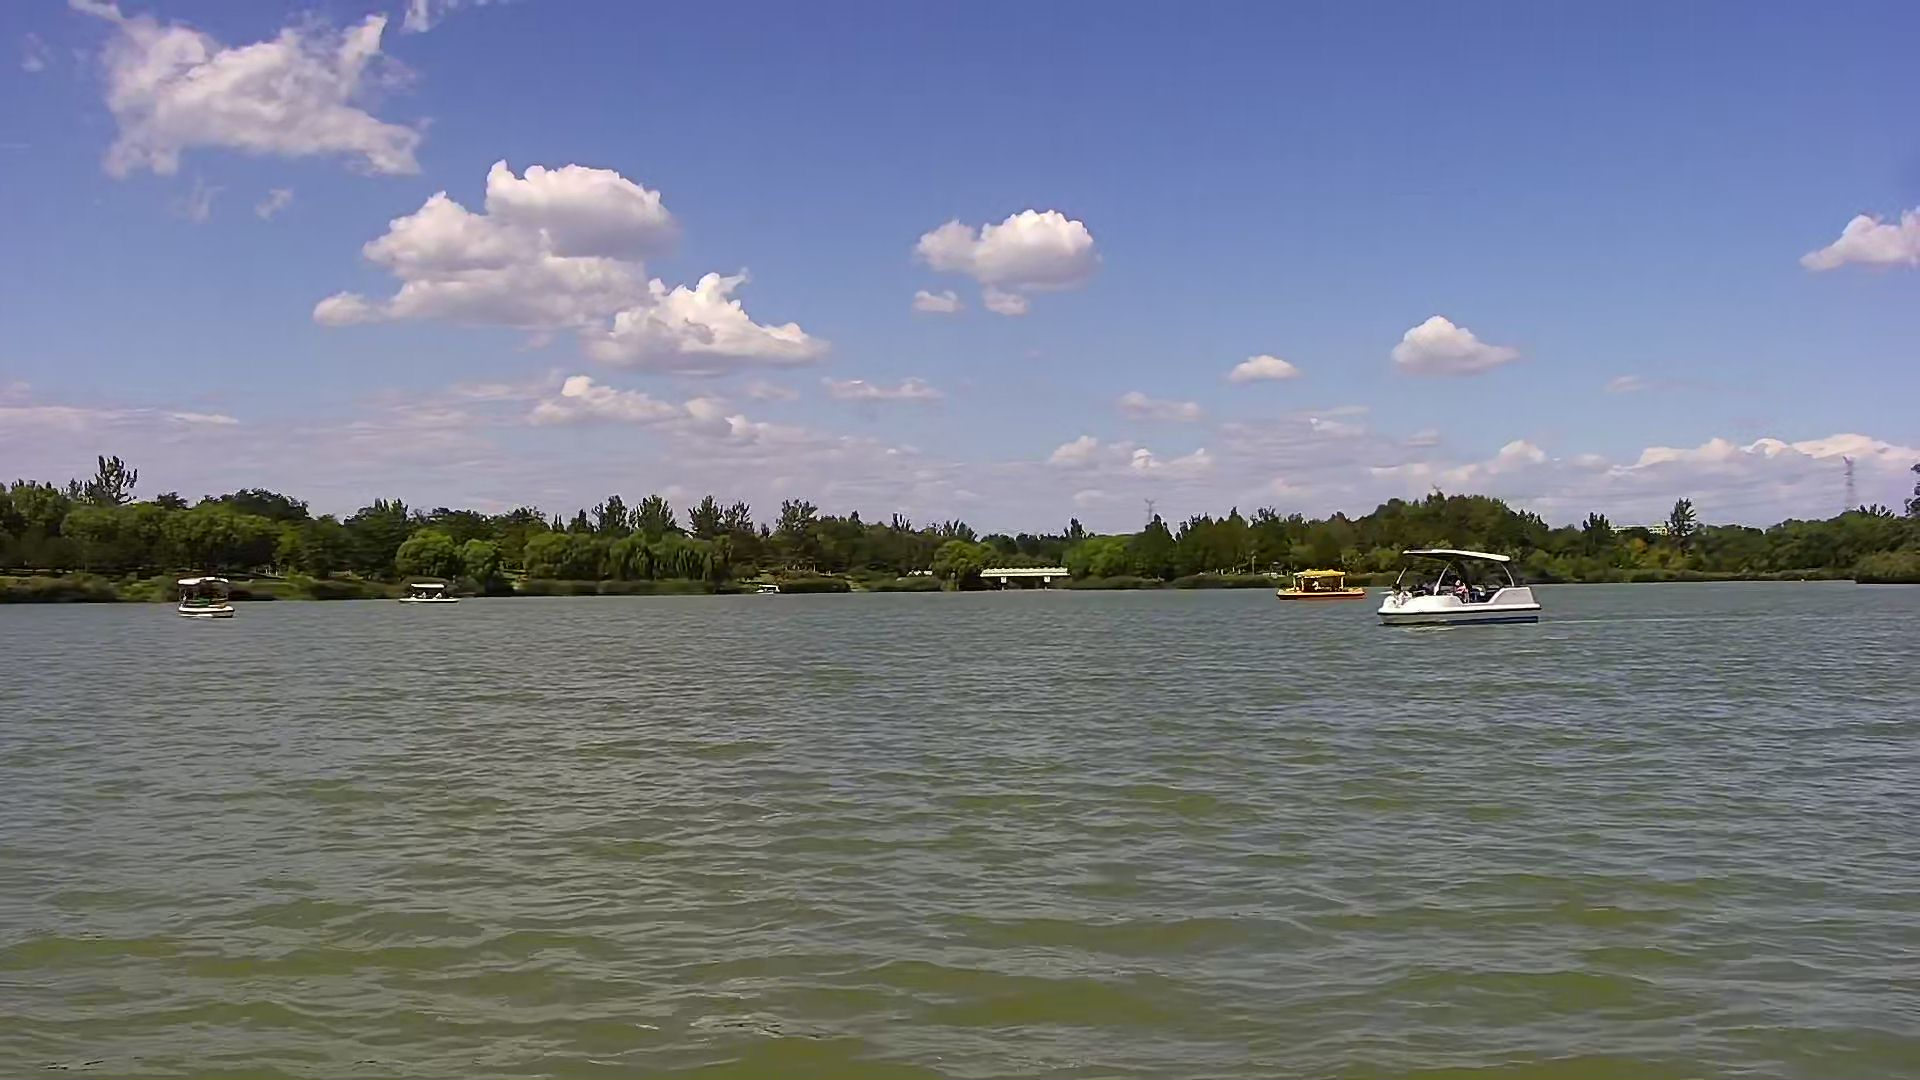boat: (1381, 543, 1540, 628), (1282, 564, 1364, 601), (174, 574, 236, 618), (397, 579, 460, 609)
bridge: (985, 564, 1071, 595)
